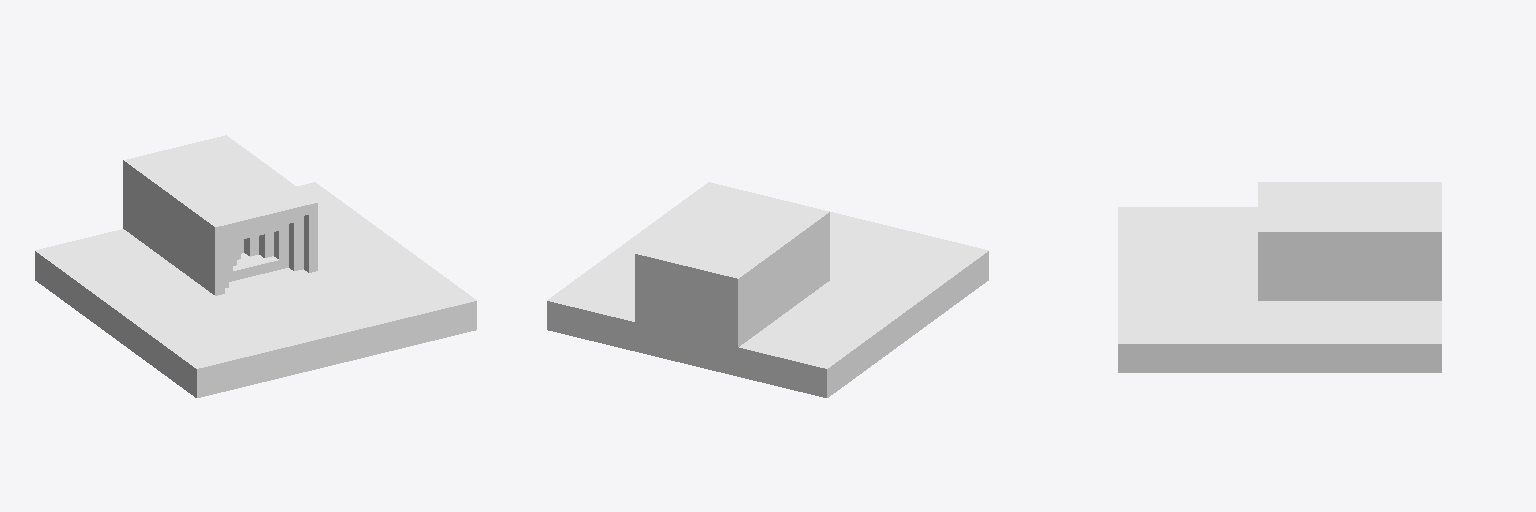
File: Scena.obj
The picture shows the model from 3 angles: view 1: azimuth 30°, elevation 25°; view 2: azimuth 150°, elevation 25°; view 3: azimuth 270°, elevation 25°; orthographic projection.
Parts seen in each view (by area): view 1: object 1; view 2: object 1; view 3: object 1.
Part boxes in pixels (left/top/right/bottom): object 1: left=35, top=135, right=476, bottom=397; object 1: left=547, top=182, right=988, bottom=397; object 1: left=1118, top=182, right=1441, bottom=372.
Size of the model in its own units: 12 by 4 by 12.